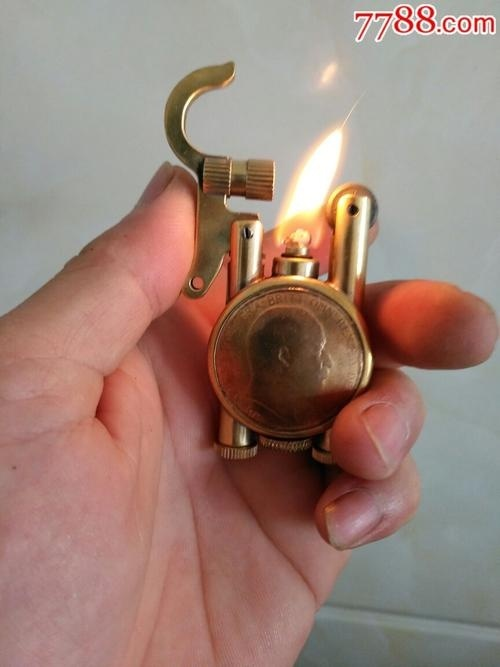fire: (274, 124, 349, 249), (317, 58, 339, 84)
